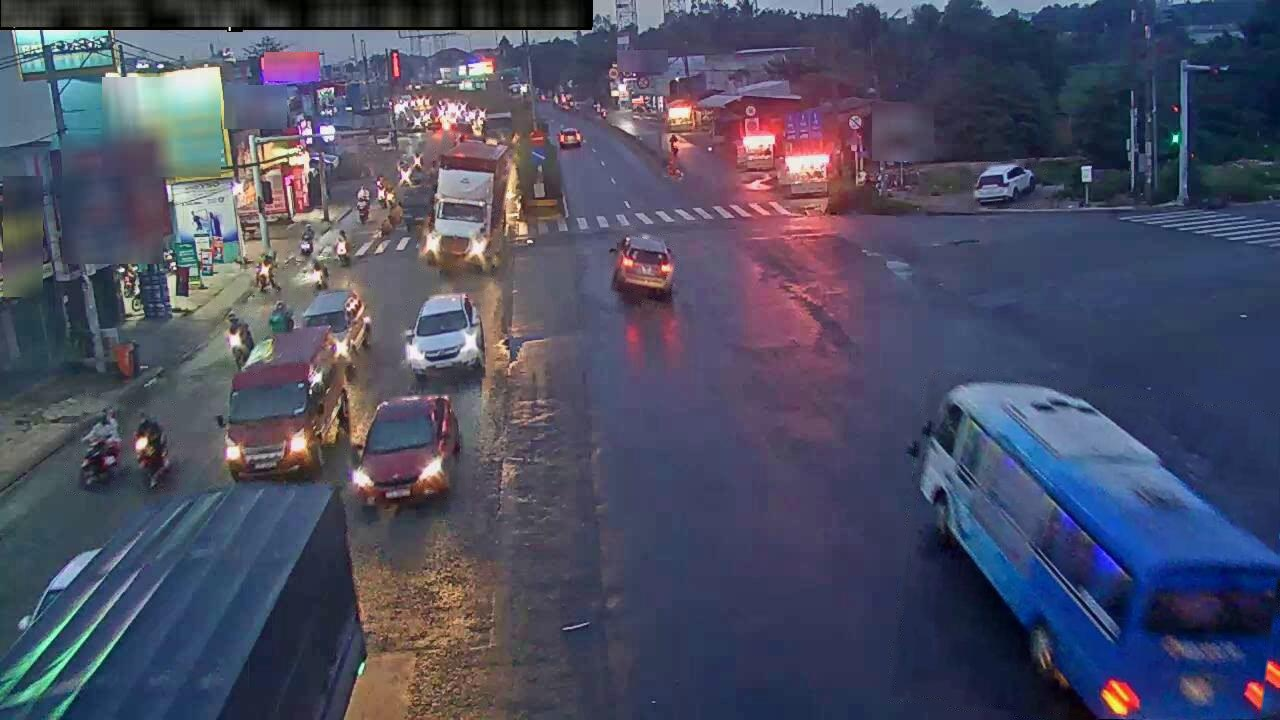Car: (908, 382, 1279, 719), (352, 395, 461, 506), (404, 293, 485, 383), (300, 290, 371, 357), (610, 234, 674, 298), (973, 164, 1035, 205), (558, 128, 582, 148)
Motorcyclist: (80, 409, 122, 487), (134, 417, 170, 487), (226, 311, 256, 370), (254, 251, 280, 292), (268, 299, 294, 333), (309, 259, 329, 295), (297, 224, 315, 263), (334, 229, 351, 267)
Pedestrian: (376, 176, 387, 204)
Traffic light: (390, 51, 401, 79)
Truck: (0, 483, 366, 719), (216, 326, 349, 481), (424, 140, 517, 269)
